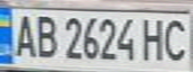2: (96, 15, 121, 62), (60, 14, 84, 61)
4: (115, 15, 142, 62)
6: (78, 14, 103, 62)
A: (9, 10, 39, 58)
B: (30, 12, 60, 60)
C: (160, 16, 193, 62)
H: (139, 15, 169, 62)
